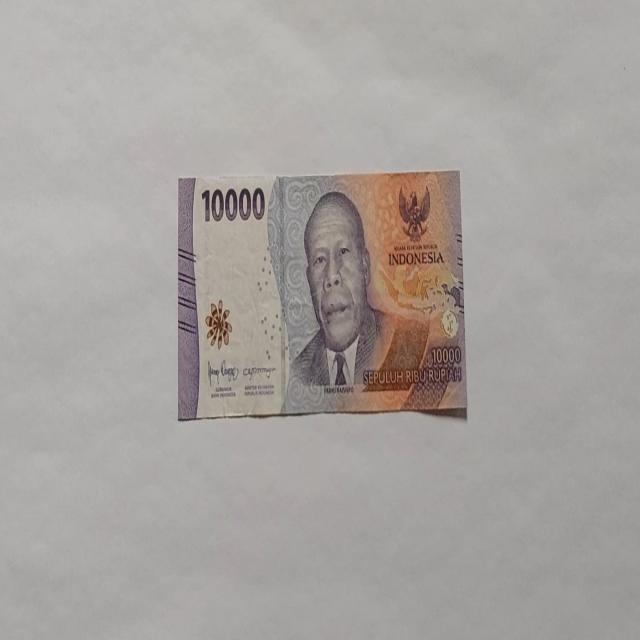sepuluh ribu rupiah: (177, 168, 467, 422)
